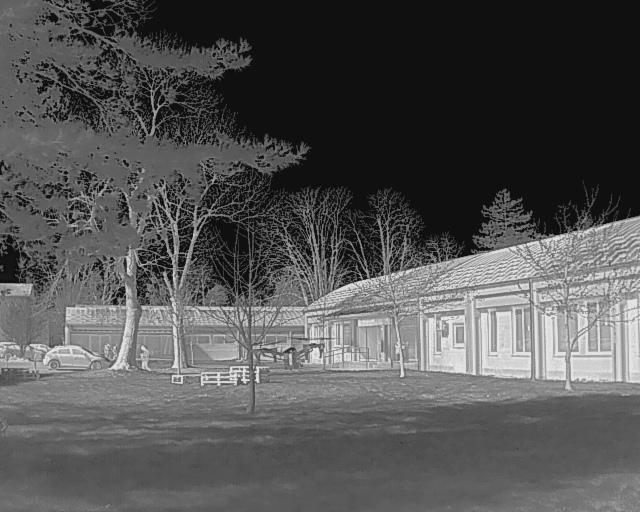drone: (242, 331, 346, 382)
